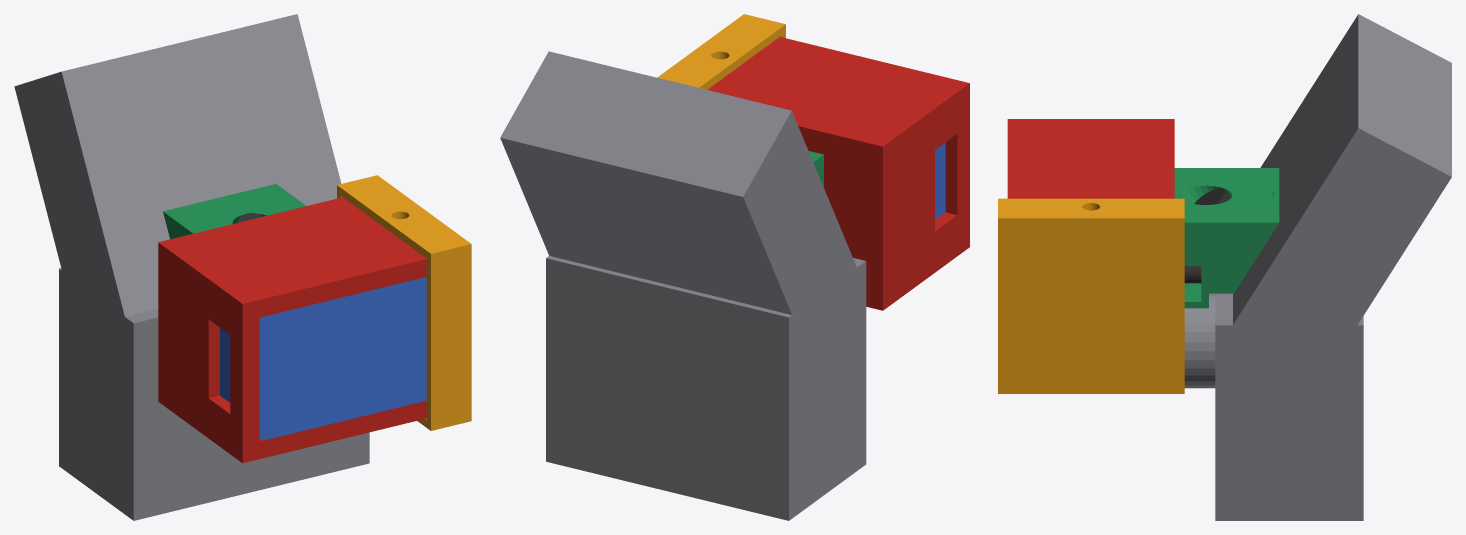
The model's file is dragy_assembly_v1.obj.
3 renders of one model, left to right at view 1: azimuth 30°, elevation 25°; view 2: azimuth 150°, elevation 25°; view 3: azimuth 270°, elevation 25°, orthographic. The views are drawn at different scales.
Visible parts, largest first — view 1: hole_A_surroundings_rear_truck, dragy_tray, dragy, usbc_cap, shoe; view 2: hole_A_surroundings_rear_truck, dragy_tray, usbc_cap, dragy; view 3: hole_A_surroundings_rear_truck, usbc_cap, dragy_tray, shoe, screws.
Part boxes in pixels (x1=…): hole_A_surroundings_rear_truck: x1=14, y1=14, x2=369, y2=520; dragy_tray: x1=158, y1=197, x2=426, y2=463; dragy: x1=220, y1=277, x2=426, y2=439; usbc_cap: x1=337, y1=175, x2=471, y2=430; shoe: x1=163, y1=184, x2=305, y2=239; hole_A_surroundings_rear_truck: x1=500, y1=51, x2=866, y2=520; dragy_tray: x1=707, y1=37, x2=969, y2=310; usbc_cap: x1=657, y1=14, x2=785, y2=89; dragy: x1=935, y1=142, x2=945, y2=219; hole_A_surroundings_rear_truck: x1=1184, y1=14, x2=1451, y2=520; usbc_cap: x1=998, y1=198, x2=1184, y2=393; dragy_tray: x1=1007, y1=119, x2=1174, y2=198; shoe: x1=1174, y1=168, x2=1279, y2=308; screws: x1=1184, y1=188, x2=1230, y2=283.
Bounding box in the file's own units: 50 × 80.27 × 84.06.
